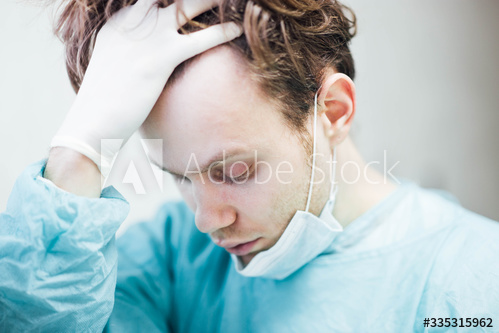mask_weared_incorrect: (134, 64, 369, 285)
